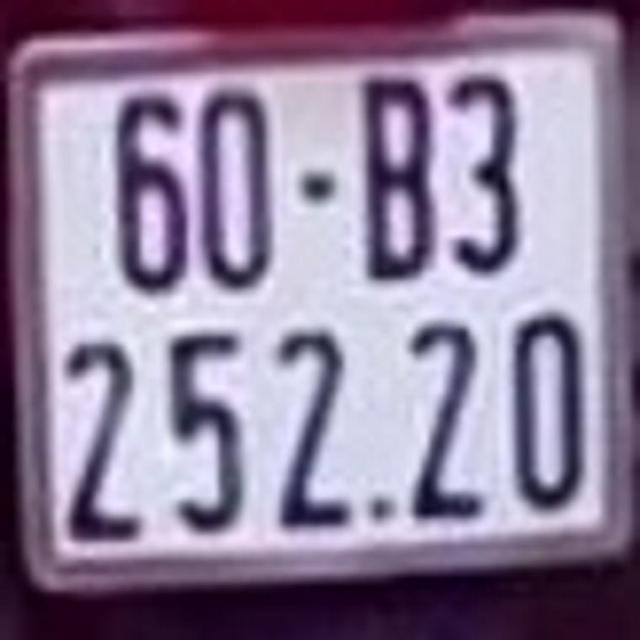0: (196, 80, 272, 293), (513, 297, 587, 512)
2: (401, 308, 491, 522), (268, 313, 352, 537), (63, 336, 145, 548)
3: (444, 53, 518, 284)
5: (165, 322, 251, 537)
6: (110, 81, 189, 297)
B: (357, 68, 432, 279)
